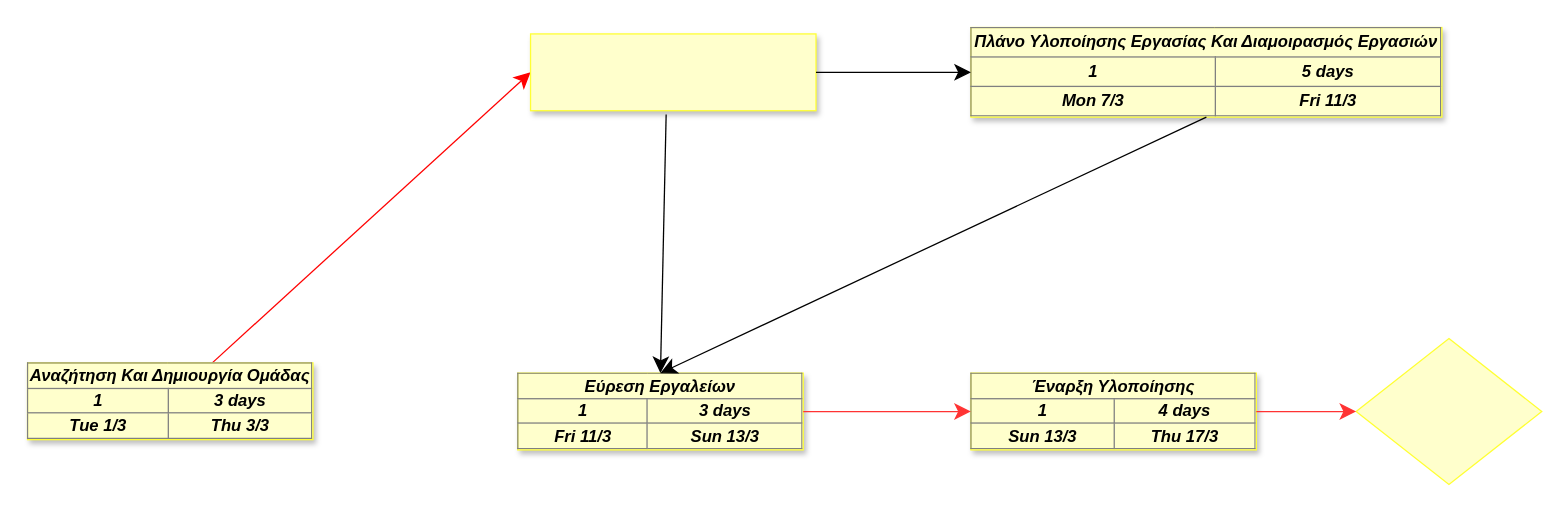
The diagram is 1564 pixels wide and 507 high, and some of its shapes have lost their labels. The centre of each missing label's shape, as x and y in pixels:
Αναζήτηση Και Εύρεση Θέματος 1 3 days Thu 3/3 Sun 6/3: [674,74]
Τέλος πρώτου Παραδοτέου Thu 17/3: [1448,410]
